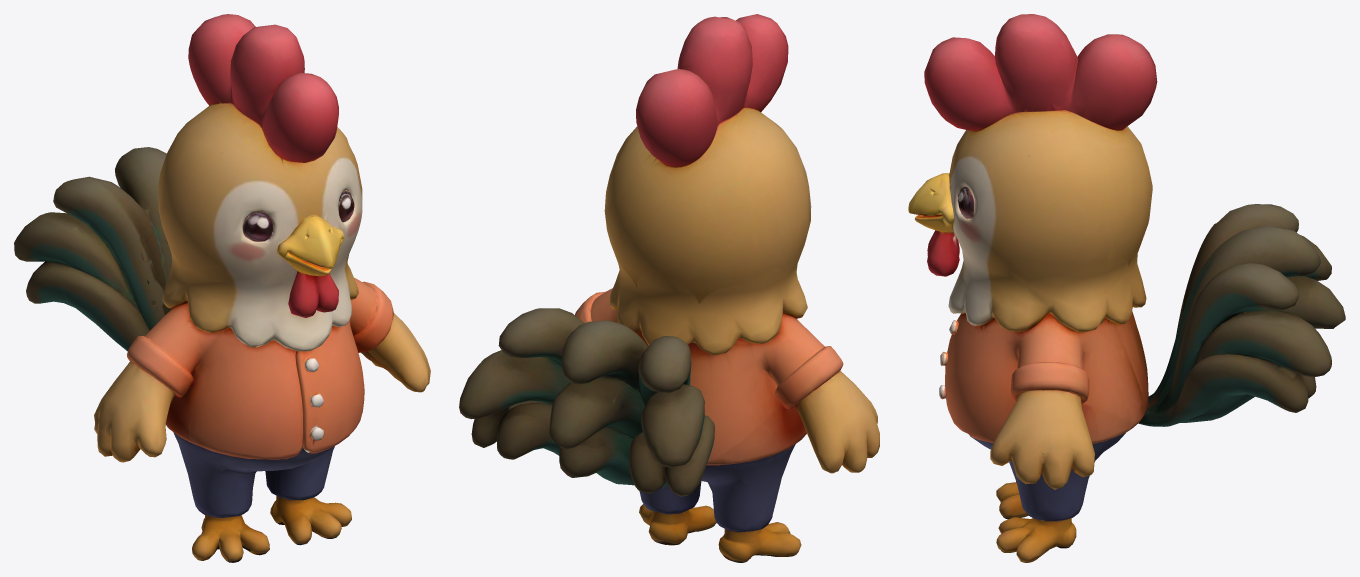
Rendered from npc_chu_tu.glb.
3 renders of one model, left to right at view 1: azimuth 30°, elevation 25°; view 2: azimuth 150°, elevation 25°; view 3: azimuth 270°, elevation 25°, orthographic.
Parts seen in each view (by area): view 1: node_0; view 2: node_0; view 3: node_0.
Boxes of the visible parts, x1,y1,x2,y2 form: node_0: [14, 14, 430, 562]; node_0: [459, 14, 879, 562]; node_0: [908, 14, 1345, 562].
Size of the model in its own units: 0.6972 by 1.08 by 0.8381.
Materials: 1 (1 with a texture image).
